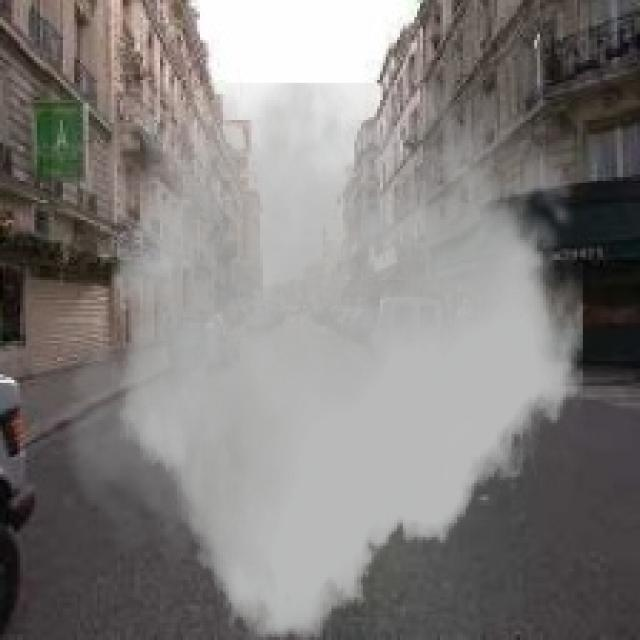smoke: (51, 83, 594, 637)
